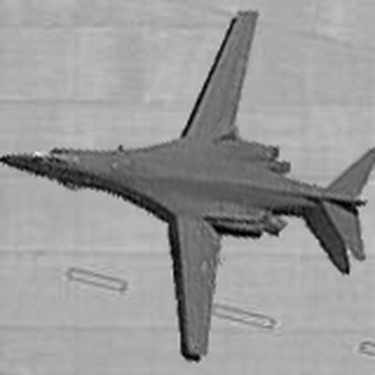airplane: (2, 4, 373, 368)
